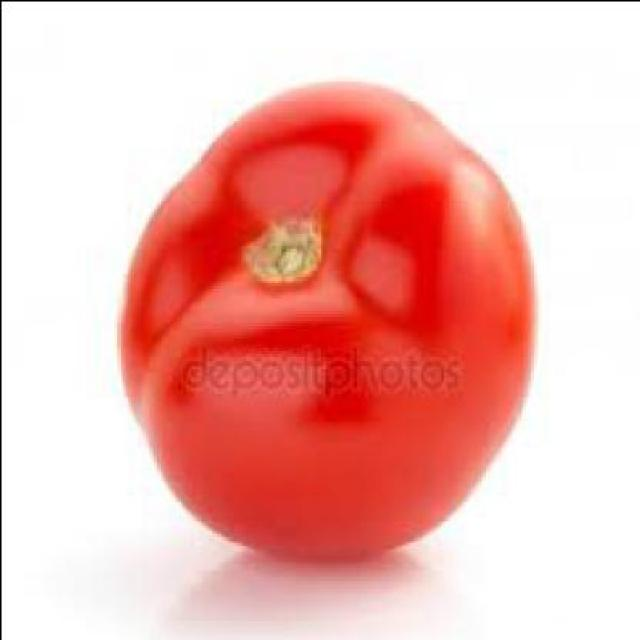BIODEGRADABLE: (118, 77, 530, 557)
